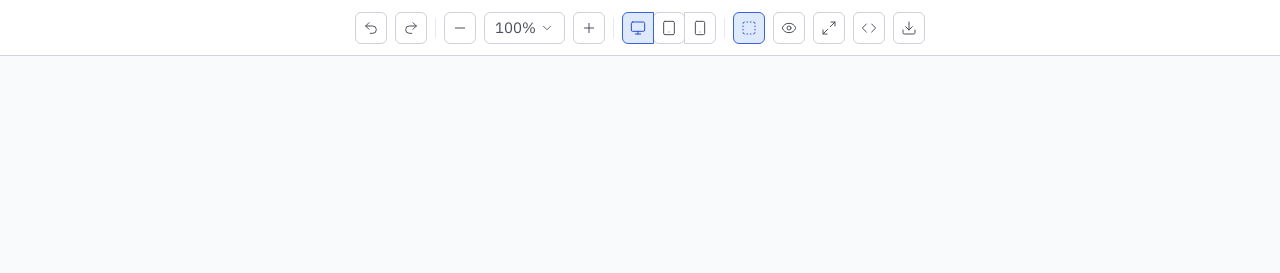
Test case: Escape closes the zoom menu and puts focus back on its button
Click the button named "Zoom".
click(524, 28)  # box [484,12,565,44]
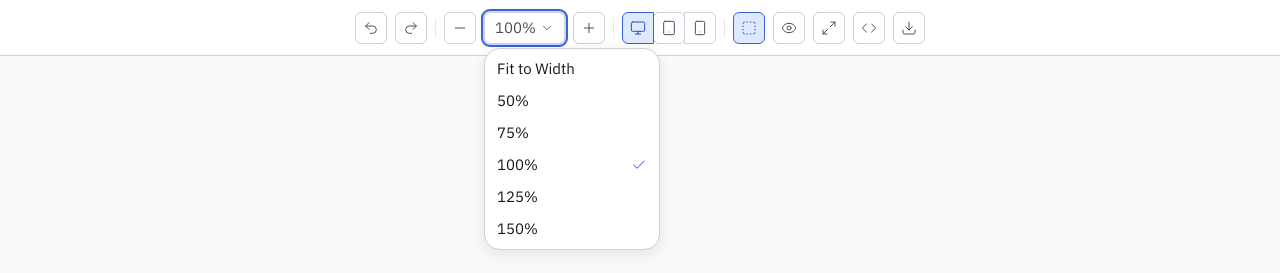
Press Escape
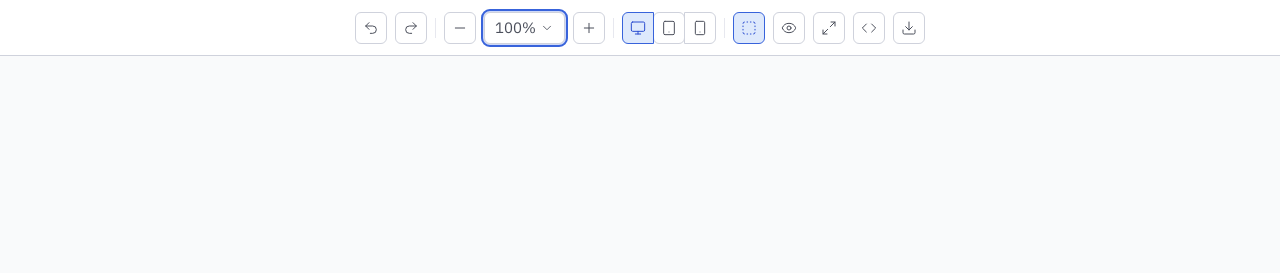
Expected: the text "Fit to Width 50% 75% 100% 125% 150%" is gone
